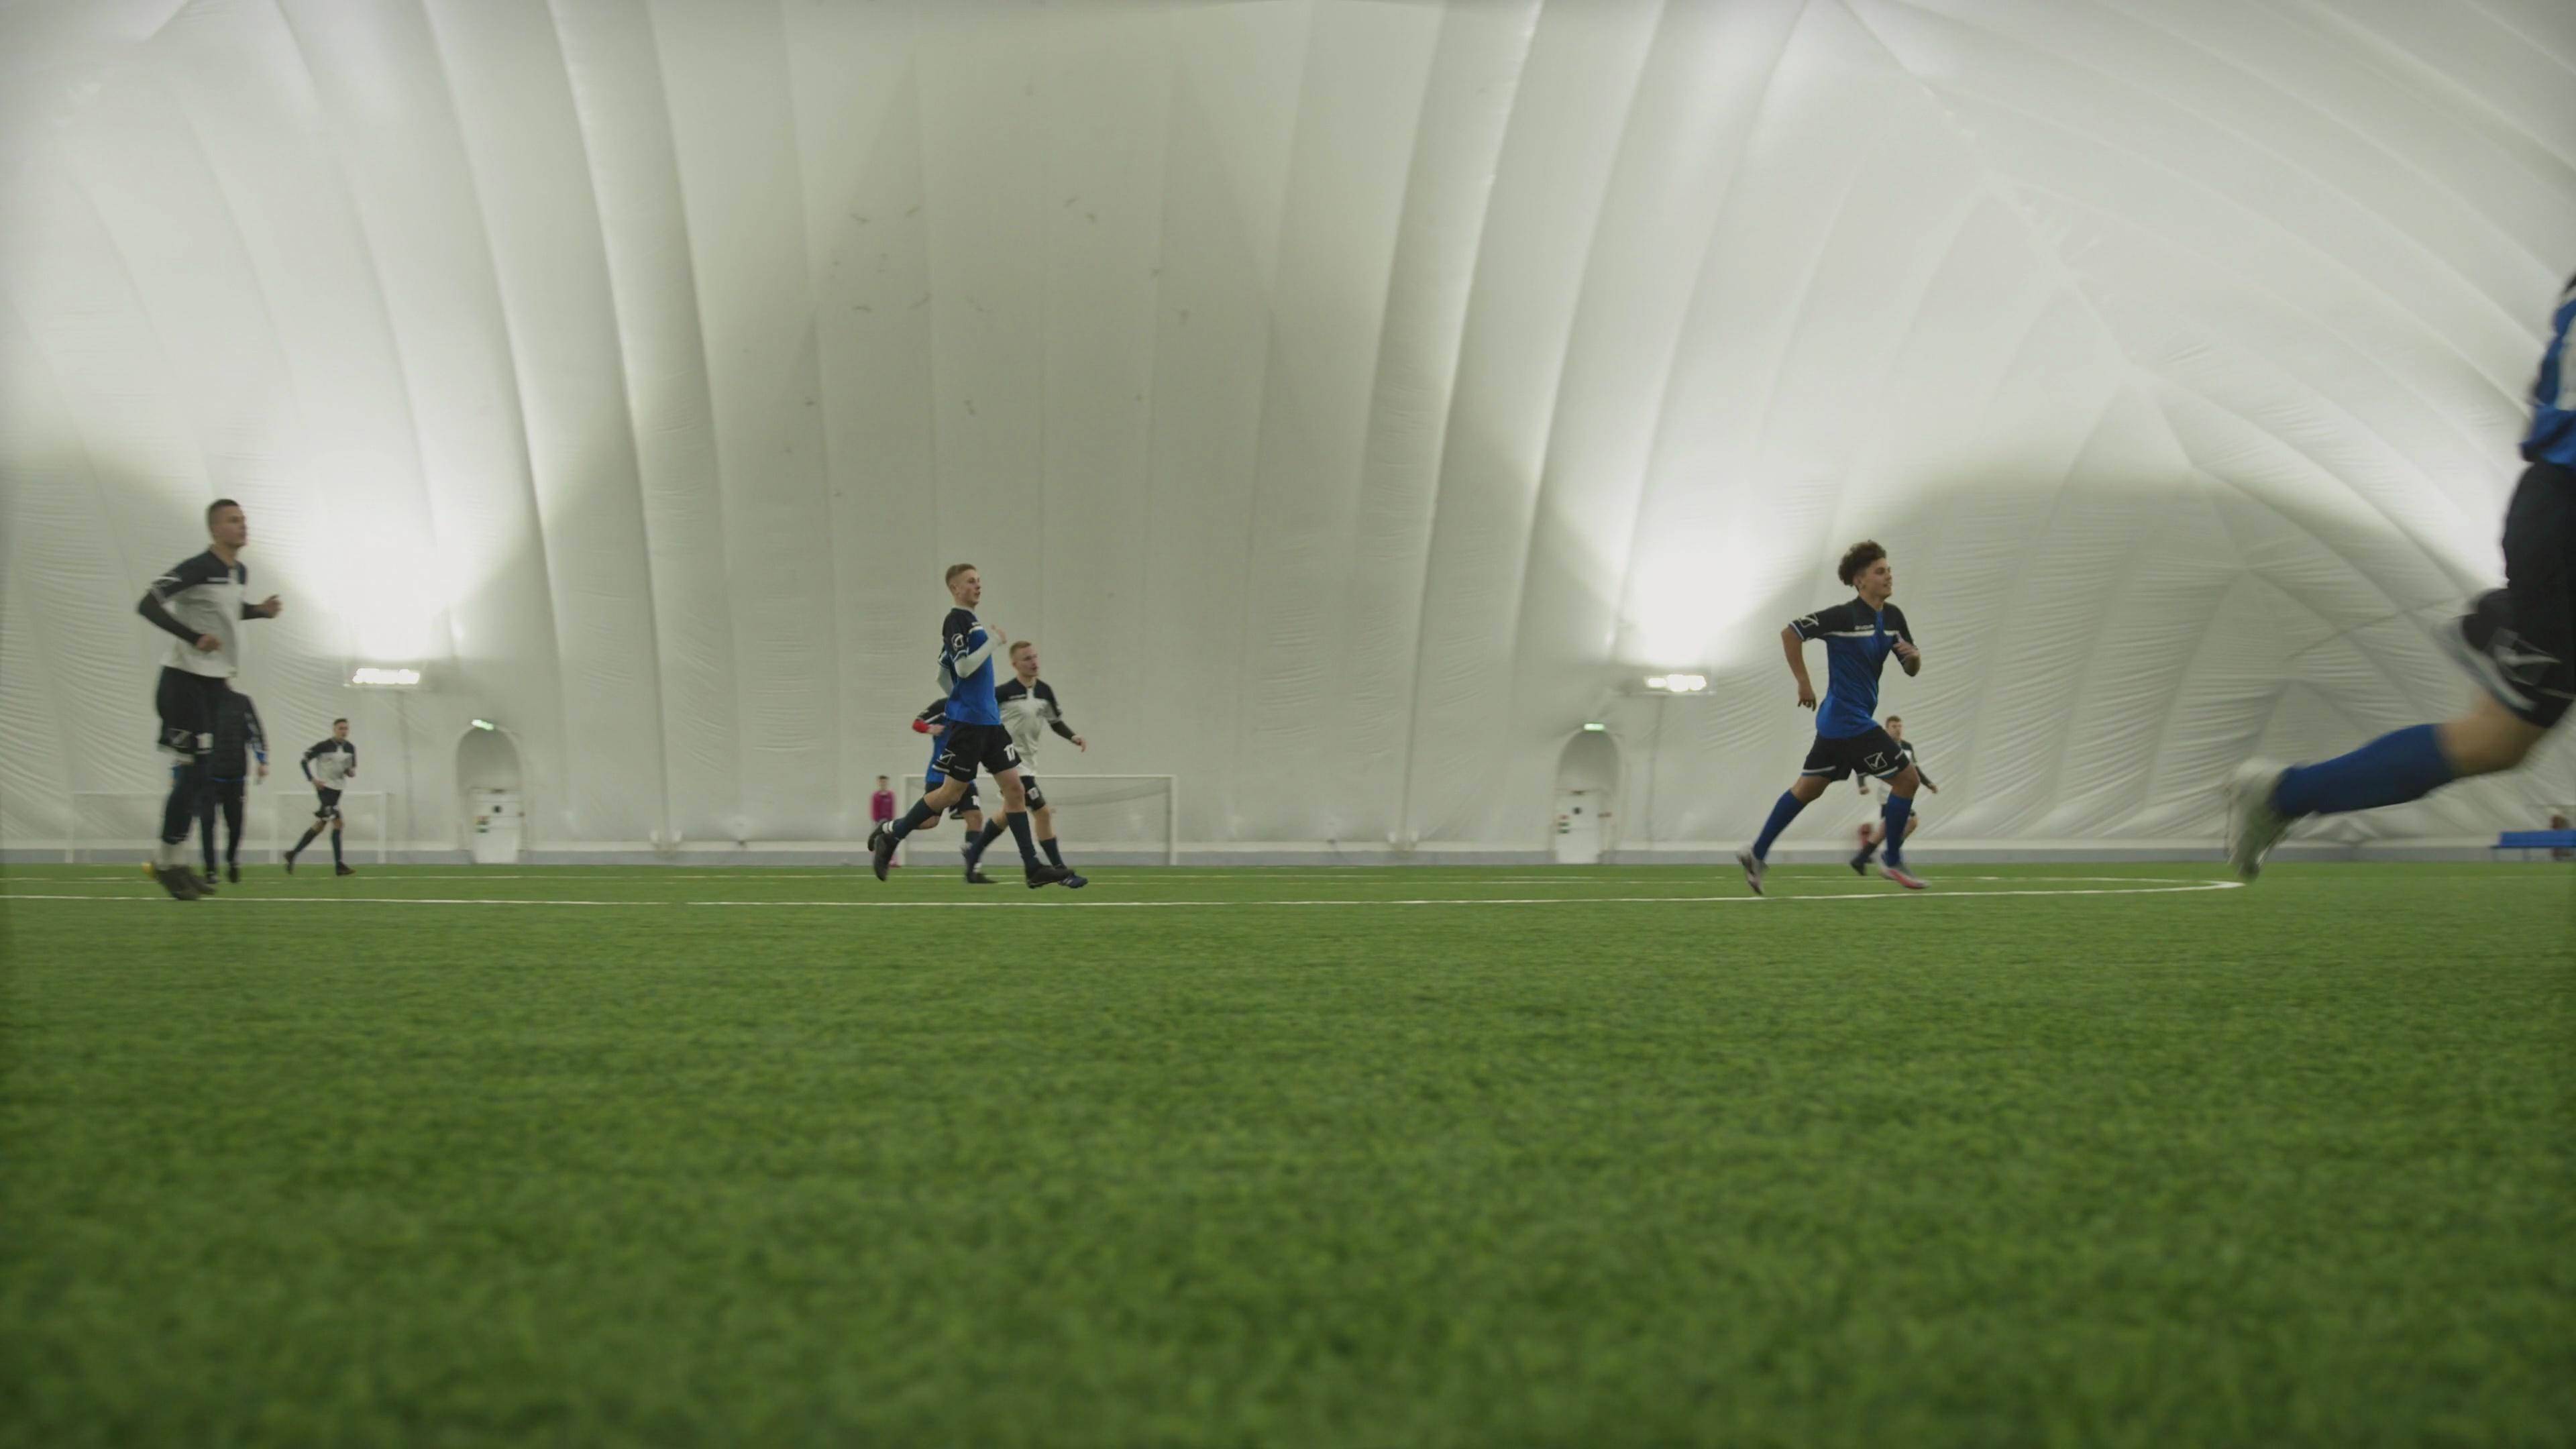other: (198, 681, 264, 879)
team1: (2224, 257, 2574, 879), (1739, 541, 1928, 893), (913, 561, 1008, 879)
team1gk: (870, 770, 899, 837)
team2: (136, 497, 281, 897), (985, 635, 1070, 878), (287, 709, 359, 876)
